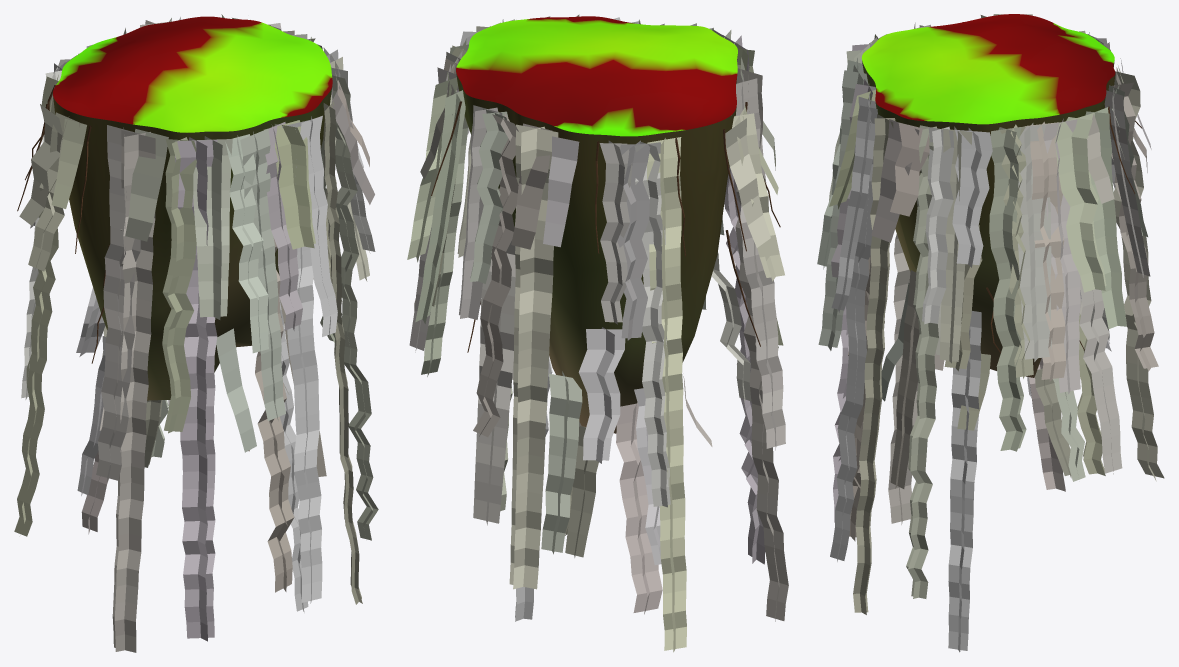
Rendered from SM_H14_Floater01.fbx.
The picture shows the model from 3 angles, left to right: view 1: azimuth 30°, elevation 25°; view 2: azimuth 150°, elevation 25°; view 3: azimuth 270°, elevation 25°; orthographic projection. The views are drawn at different scales.
Parts seen in each view (by area): view 1: SM_H14_Floater01_Ivy, SM_H14_Floater01; view 2: SM_H14_Floater01_Ivy, SM_H14_Floater01; view 3: SM_H14_Floater01_Ivy, SM_H14_Floater01.
Boxes of the visible parts, x1,y1,x2,y2 form: SM_H14_Floater01_Ivy: (14, 14, 378, 652); SM_H14_Floater01: (53, 16, 332, 400); SM_H14_Floater01_Ivy: (407, 14, 788, 652); SM_H14_Floater01: (456, 16, 737, 433); SM_H14_Floater01_Ivy: (817, 14, 1164, 652); SM_H14_Floater01: (861, 14, 1115, 377).
Size of the model in its own units: 19.14 by 31.41 by 17.98.
